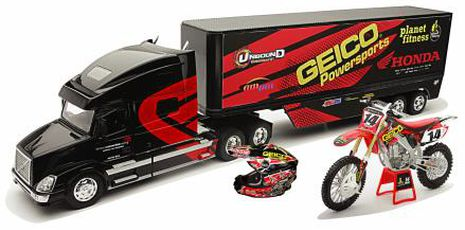geico: (292, 25, 382, 88)
